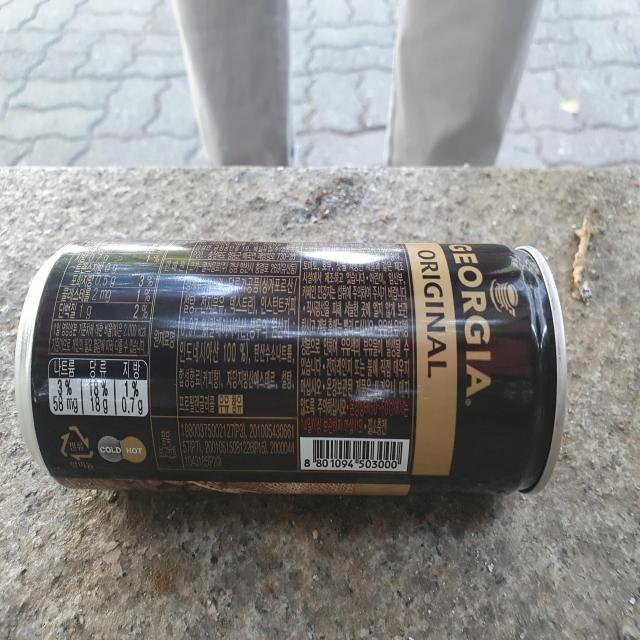can: (14, 240, 568, 495)
